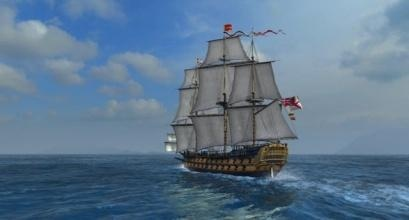fanchuan: (167, 24, 301, 174)
